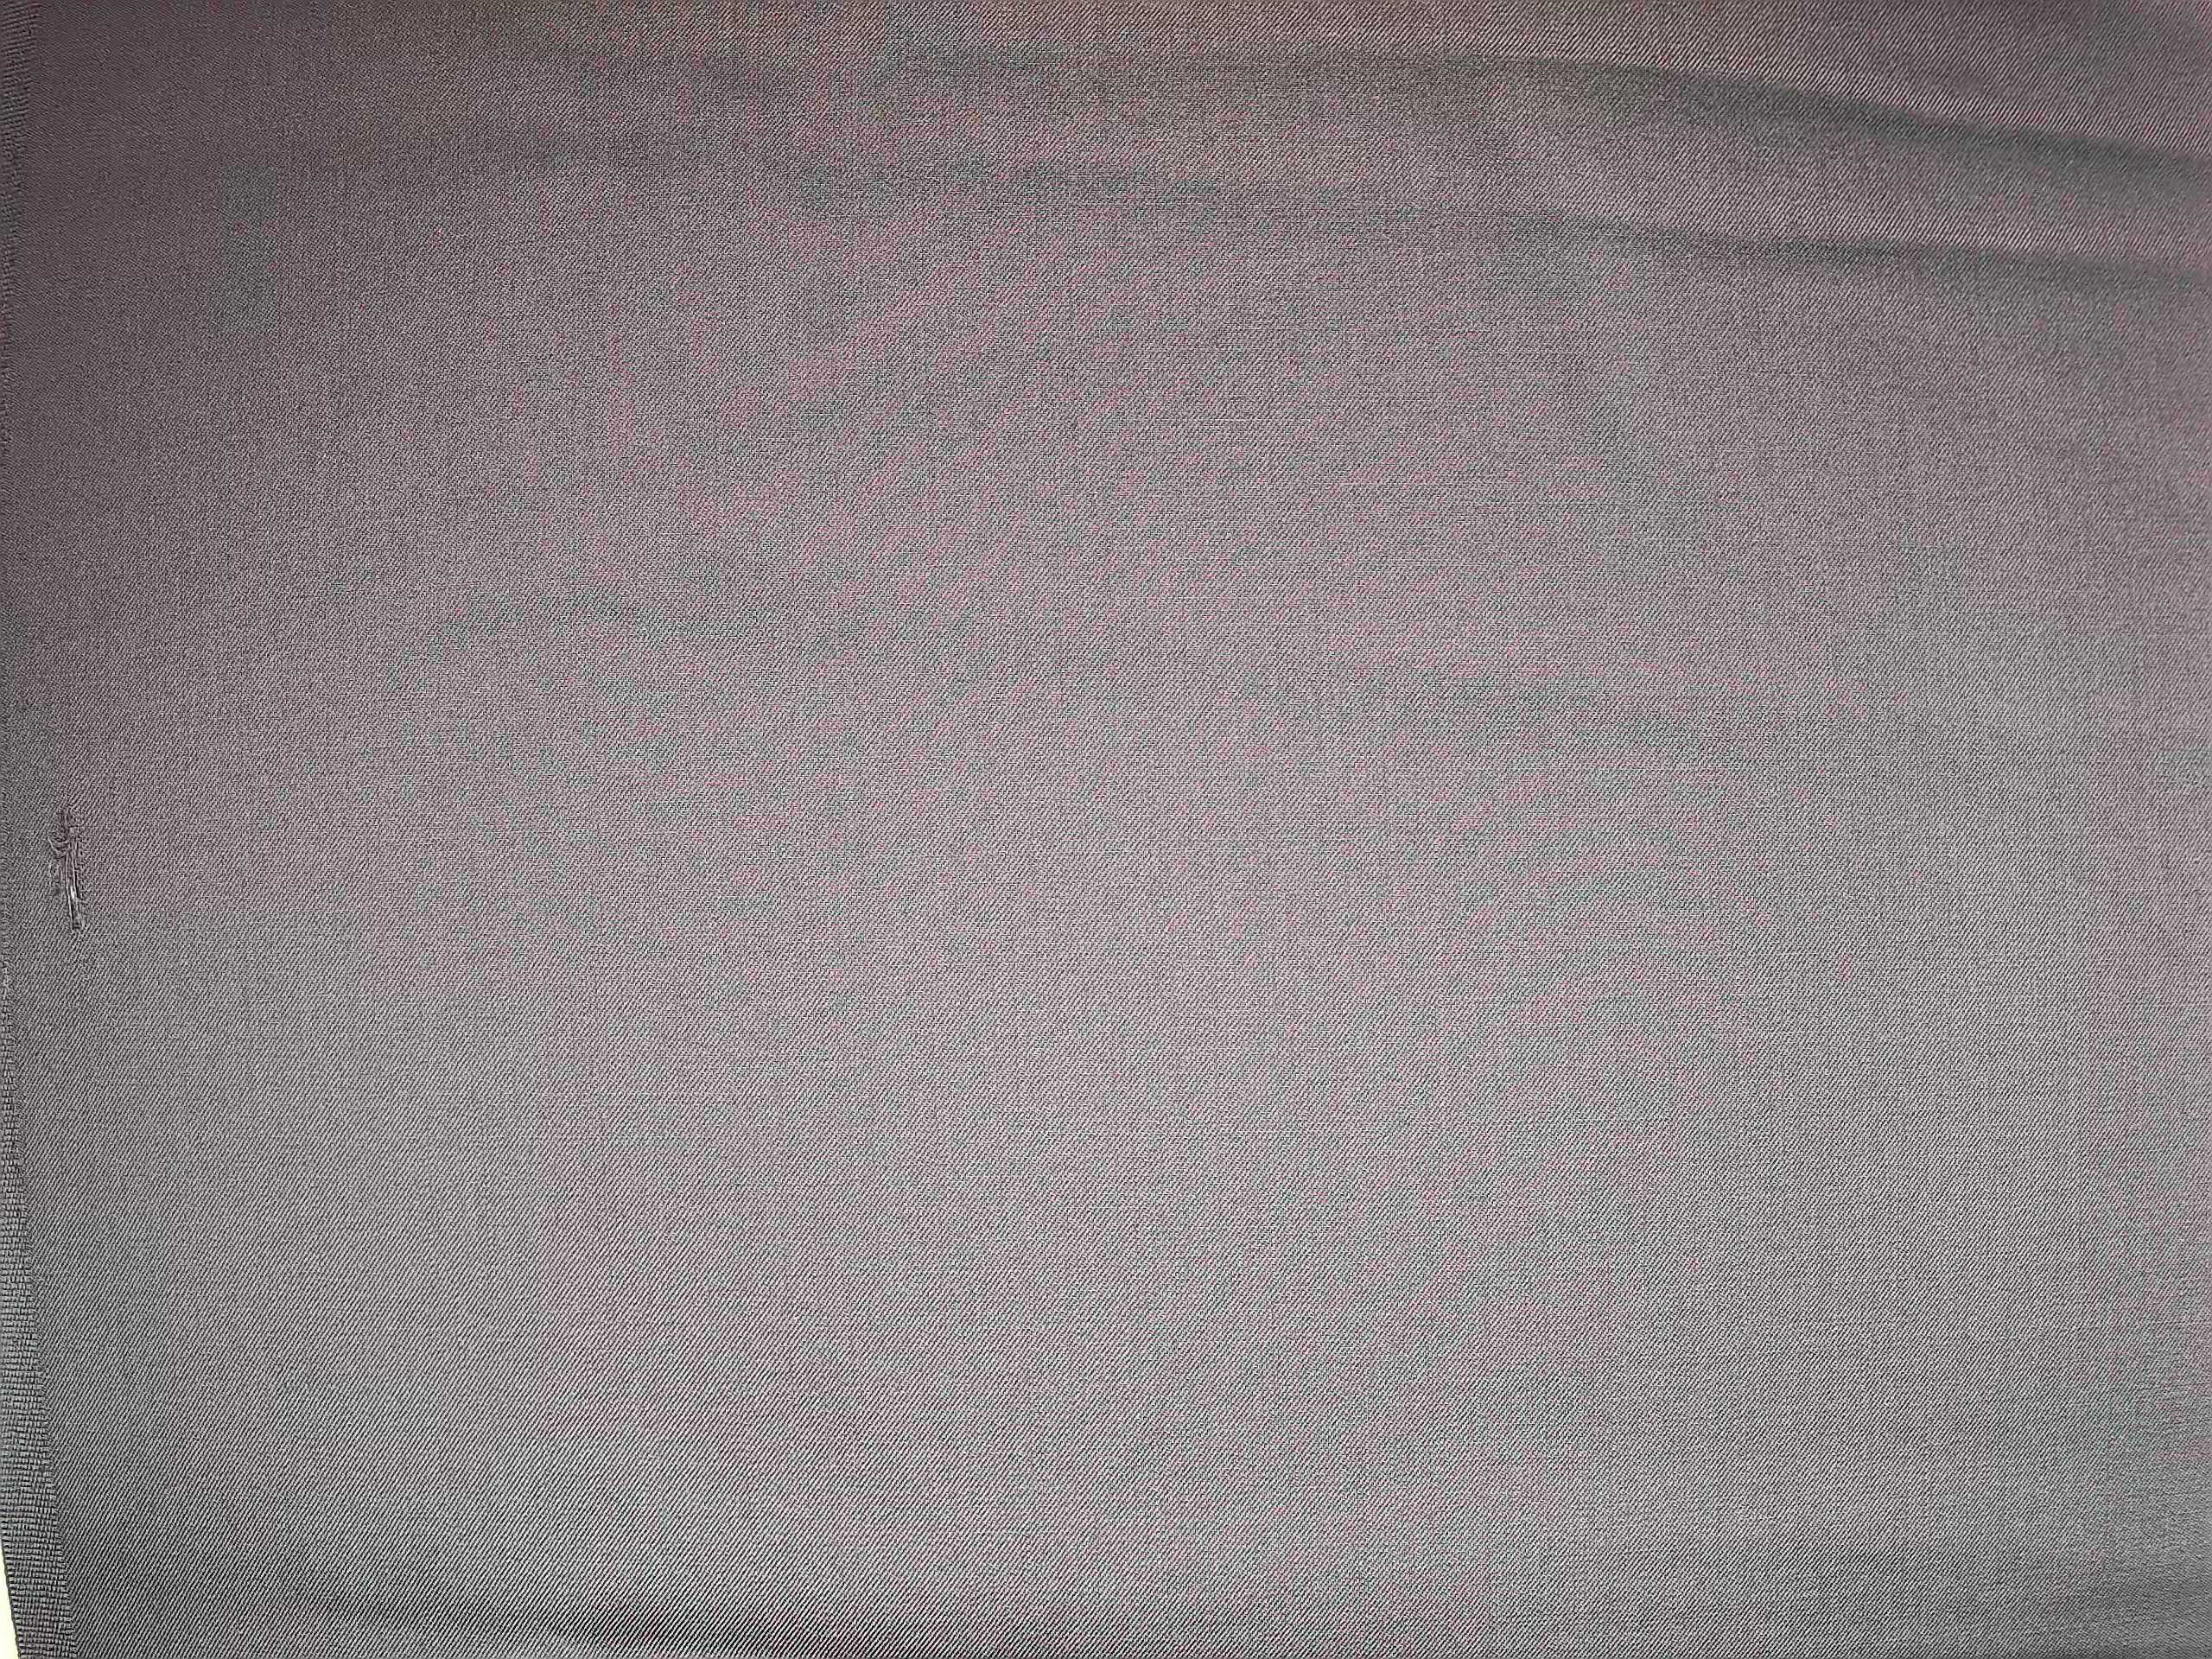rubbing-hole: (35, 781, 98, 953)
